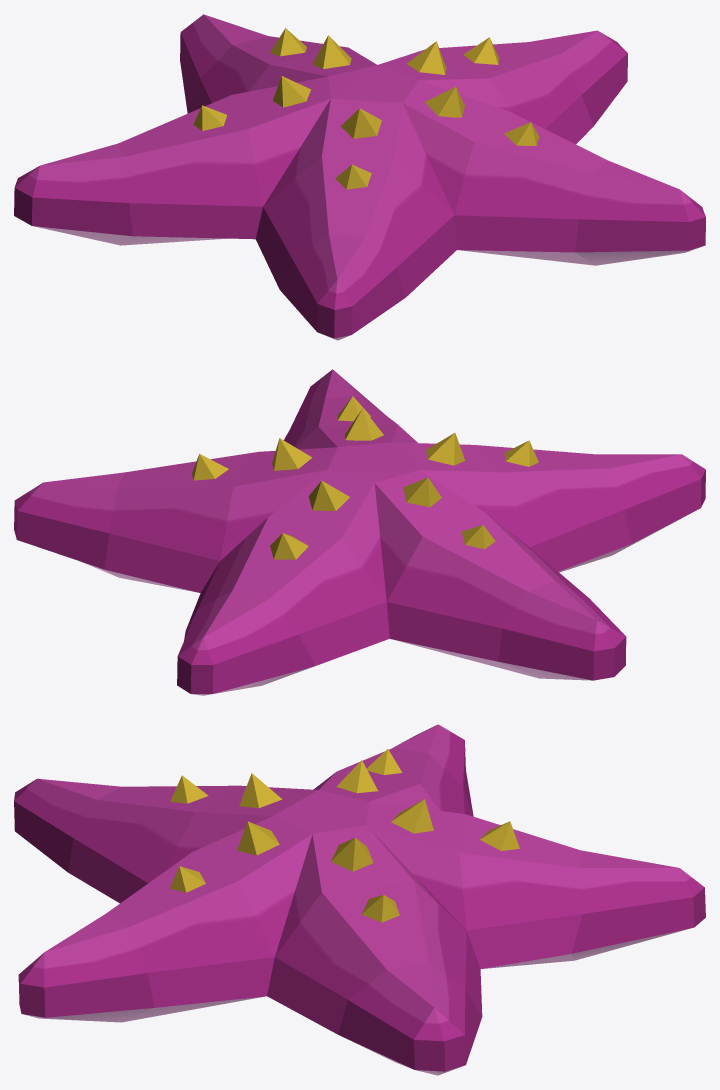
Rendered from SM_Prop_Starfish_01.glb.
The picture shows the model from 3 angles, top to bottom: view 1: azimuth 30°, elevation 25°; view 2: azimuth 150°, elevation 25°; view 3: azimuth 270°, elevation 25°; orthographic projection. The views are drawn at different scales.
Parts seen in each view (by area): view 1: SM_Prop_Starfish_01; view 2: SM_Prop_Starfish_01; view 3: SM_Prop_Starfish_01.
Part boxes in pixels (x1,y1,x2,y2): SM_Prop_Starfish_01: (14,14,705,340); SM_Prop_Starfish_01: (14,369,705,695); SM_Prop_Starfish_01: (14,724,705,1075).
Size of the model in its own units: 0.1818 by 0.0441 by 0.1727.
Materials: 1 (1 with a texture image).
